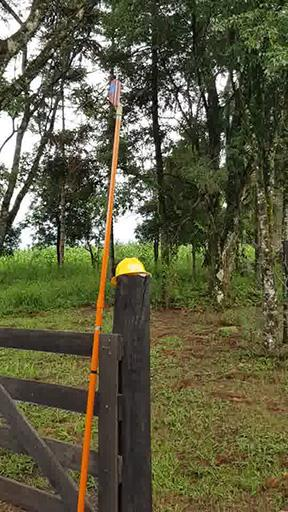Detector_Tensao_Contato: (106, 73, 122, 109)
Vara_Manobra: (76, 109, 125, 512)
